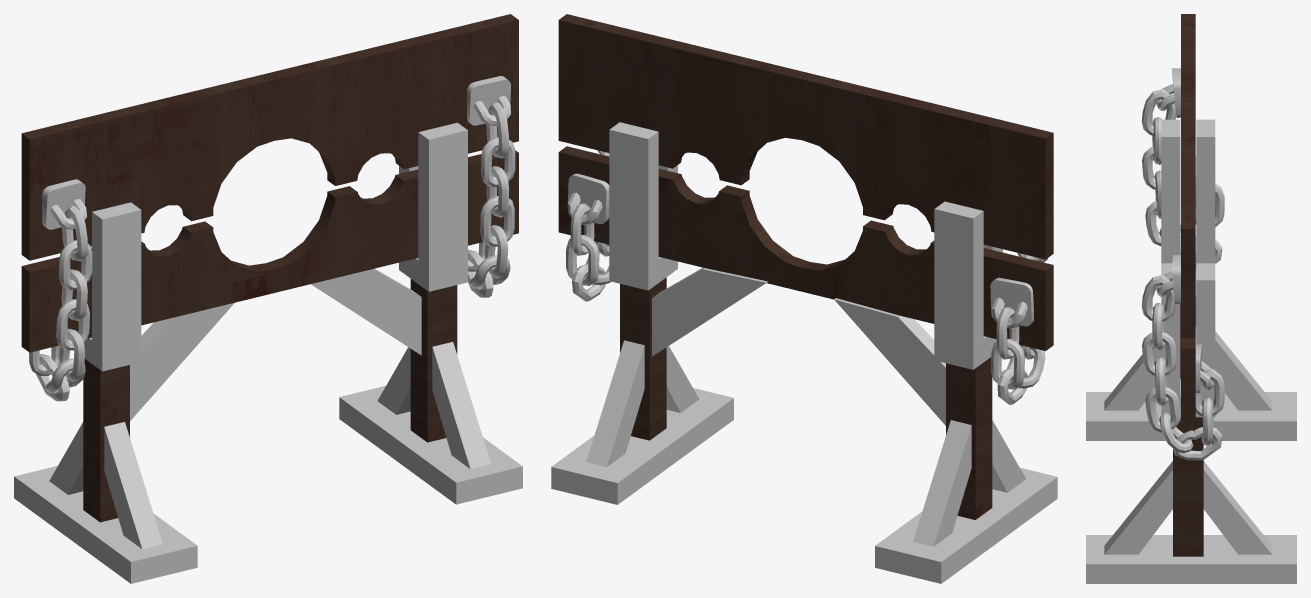
The model's file is Torture_Fixing_Tool.fbx.
3 views of the same model, side by side, from view 1: azimuth 30°, elevation 25°; view 2: azimuth 150°, elevation 25°; view 3: azimuth 270°, elevation 25° (orthographic). The views are drawn at different scales.
Visible parts, largest first — view 1: Torture_Fixing_Tool; view 2: Torture_Fixing_Tool; view 3: Torture_Fixing_Tool.
Part boxes in pixels (<box>): Torture_Fixing_Tool: <box>14,14,522,583</box>; Torture_Fixing_Tool: <box>551,14,1057,583</box>; Torture_Fixing_Tool: <box>1086,14,1296,583</box>.
Size of the model in its own units: 2.41 by 1.97 by 0.9991.
